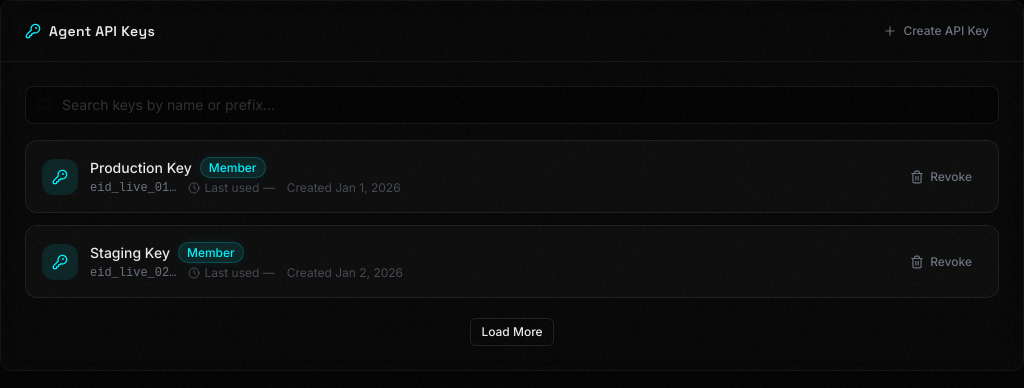
Agent API Keys Pagination UI › search input › updates results to show only matching keys after search
Check: the text "Production Key" is shown, box [90,158,192,178]
Check: the text "Staging Key" is shown, box [90,242,170,262]
Type search
Type "prod" into the field with placeholder "Search keys by name or prefix…" at (512, 105), box [25,86,999,124]
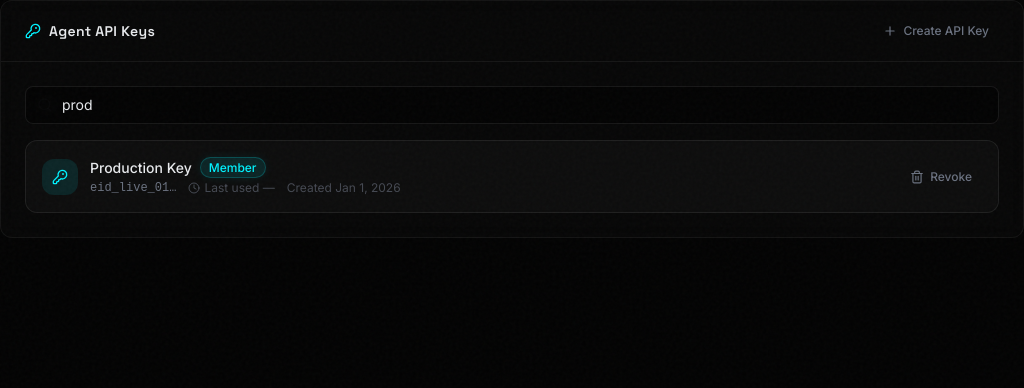
Check: the text "Production Key" is shown, box [90,158,192,178]
Check: the text "Staging Key" is gone
